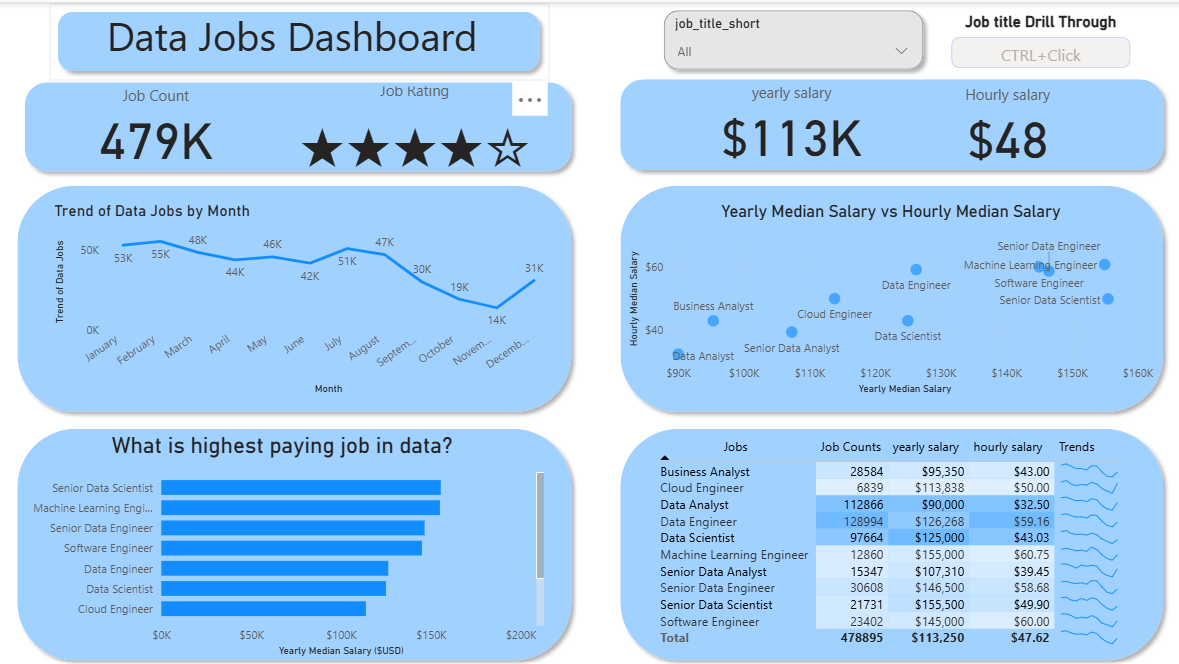

The page's visual inventory and layout, read from the dashboard file:
{"tool":"powerbi","page":{"name":"Dashboard ","canvas":[1280,720],"ordinal":0},"visuals":[{"type":"shape","box":[18,78,608,114],"z":1000},{"type":"shape","box":[660,452,604,268],"z":1250},{"type":"shape","box":[10,452,616,268],"z":1500},{"type":"shape","box":[660,74,604,116],"z":4500},{"type":"shape","box":[10,190,616,262],"z":5000},{"type":"shape","box":[660,190,604,262],"z":5500},{"type":"shape","box":[708,0,298,82],"z":5562},{"type":"shape","box":[54,2,538,82],"z":5625},{"type":"textbox","box":[110,2,420,82],"z":5750},{"type":"slicer","fields":{"Values":["job_postings_flat.job_title_short"]},"box":[716,10,280,60],"z":6000},{"type":"cardVisual","fields":{"Data":["Median(job_postings_flat.salary_hour_avg)"]},"box":[940,84,294,98],"z":12000},{"type":"cardVisual","fields":{"Data":["CountNonNull(job_postings_flat.job_country)"]},"box":[38,86,262,98],"z":12500},{"type":"cardVisual","fields":{"Data":["Median(job_postings_flat.salary_year_avg)"]},"box":[726,82,258,98],"z":13000},{"type":"cardVisual","fields":{"Data":["job_postings_flat.Median of salary_year_avg star rating 2"]},"box":[302,86,290,106],"z":14500},{"type":"actionButton","title":"Job title Drill Through","box":[1026,12,194,60],"z":16000},{"type":"lineChart","fields":{"Category":["job_postings_flat.job_posted_date.Variation.Date Hierarchy.Month"],"Y":["CountNonNull(job_postings_flat.company_name)"]},"box":[54,216,544,212],"z":16062},{"type":"barChart","title":"What is highest paying job in data?","fields":{"Category":["job_postings_flat.job_title_short"],"Y":["Median(job_postings_flat.salary_year_avg)"]},"box":[18,464,574,246],"z":16125},{"type":"scatterChart","title":"Yearly Median Salary vs Hourly Median Salary ","fields":{"Y":["Median(job_postings_flat.salary_hour_avg)"],"X":["Median(job_postings_flat.salary_year_avg)"],"Series":["job_postings_flat.job_title_short"]},"box":[674,216,576,212],"z":16250},{"type":"pivotTable","fields":{"Rows":["job_postings_flat.job_title_short"],"Values":["CountNonNull(job_postings_flat.job_title_short)","Median(job_postings_flat.salary_year_avg)","Median(job_postings_flat.salary_hour_avg)","SparklineData(CountNonNull(job_postings_flat.job_title_short)_[job_postings_flat.job_posted_date.Variation.Date Hierarch"]},"box":[702,464,518,256],"z":16500}]}

Visuals, with their boxes in screenshot pixels (x1, y1, x2, y2), scaled from the page's 1280x720 canvas onto the 1179x664 screenshot:
shape: locate(17, 72, 577, 177)
shape: locate(608, 417, 1164, 663)
shape: locate(9, 417, 577, 663)
shape: locate(608, 68, 1164, 175)
shape: locate(9, 175, 577, 417)
shape: locate(608, 175, 1164, 417)
shape: locate(652, 0, 927, 76)
shape: locate(50, 2, 545, 77)
textbox: locate(101, 2, 488, 77)
slicer - job_postings_flat.job_title_short: locate(660, 9, 917, 65)
cardVisual - Median(job_postings_flat.salary_hour_avg): locate(866, 77, 1137, 168)
cardVisual - CountNonNull(job_postings_flat.job_country): locate(35, 79, 276, 170)
cardVisual - Median(job_postings_flat.salary_year_avg): locate(669, 76, 906, 166)
cardVisual - job_postings_flat.Median of salary_year_avg star rating 2: locate(278, 79, 545, 177)
"Job title Drill Through" actionButton: locate(945, 11, 1124, 66)
lineChart - job_postings_flat.job_posted_date.Variation.Date Hierarchy.Month x CountNonNull(job_postings_flat.company_name): locate(50, 199, 551, 395)
"What is highest paying job in data?" barChart: locate(17, 428, 545, 655)
"Yearly Median Salary vs Hourly Median Salary " scatterChart: locate(621, 199, 1151, 395)
pivotTable - job_postings_flat.job_title_short x CountNonNull(job_postings_flat.job_title_short): locate(647, 428, 1124, 663)
